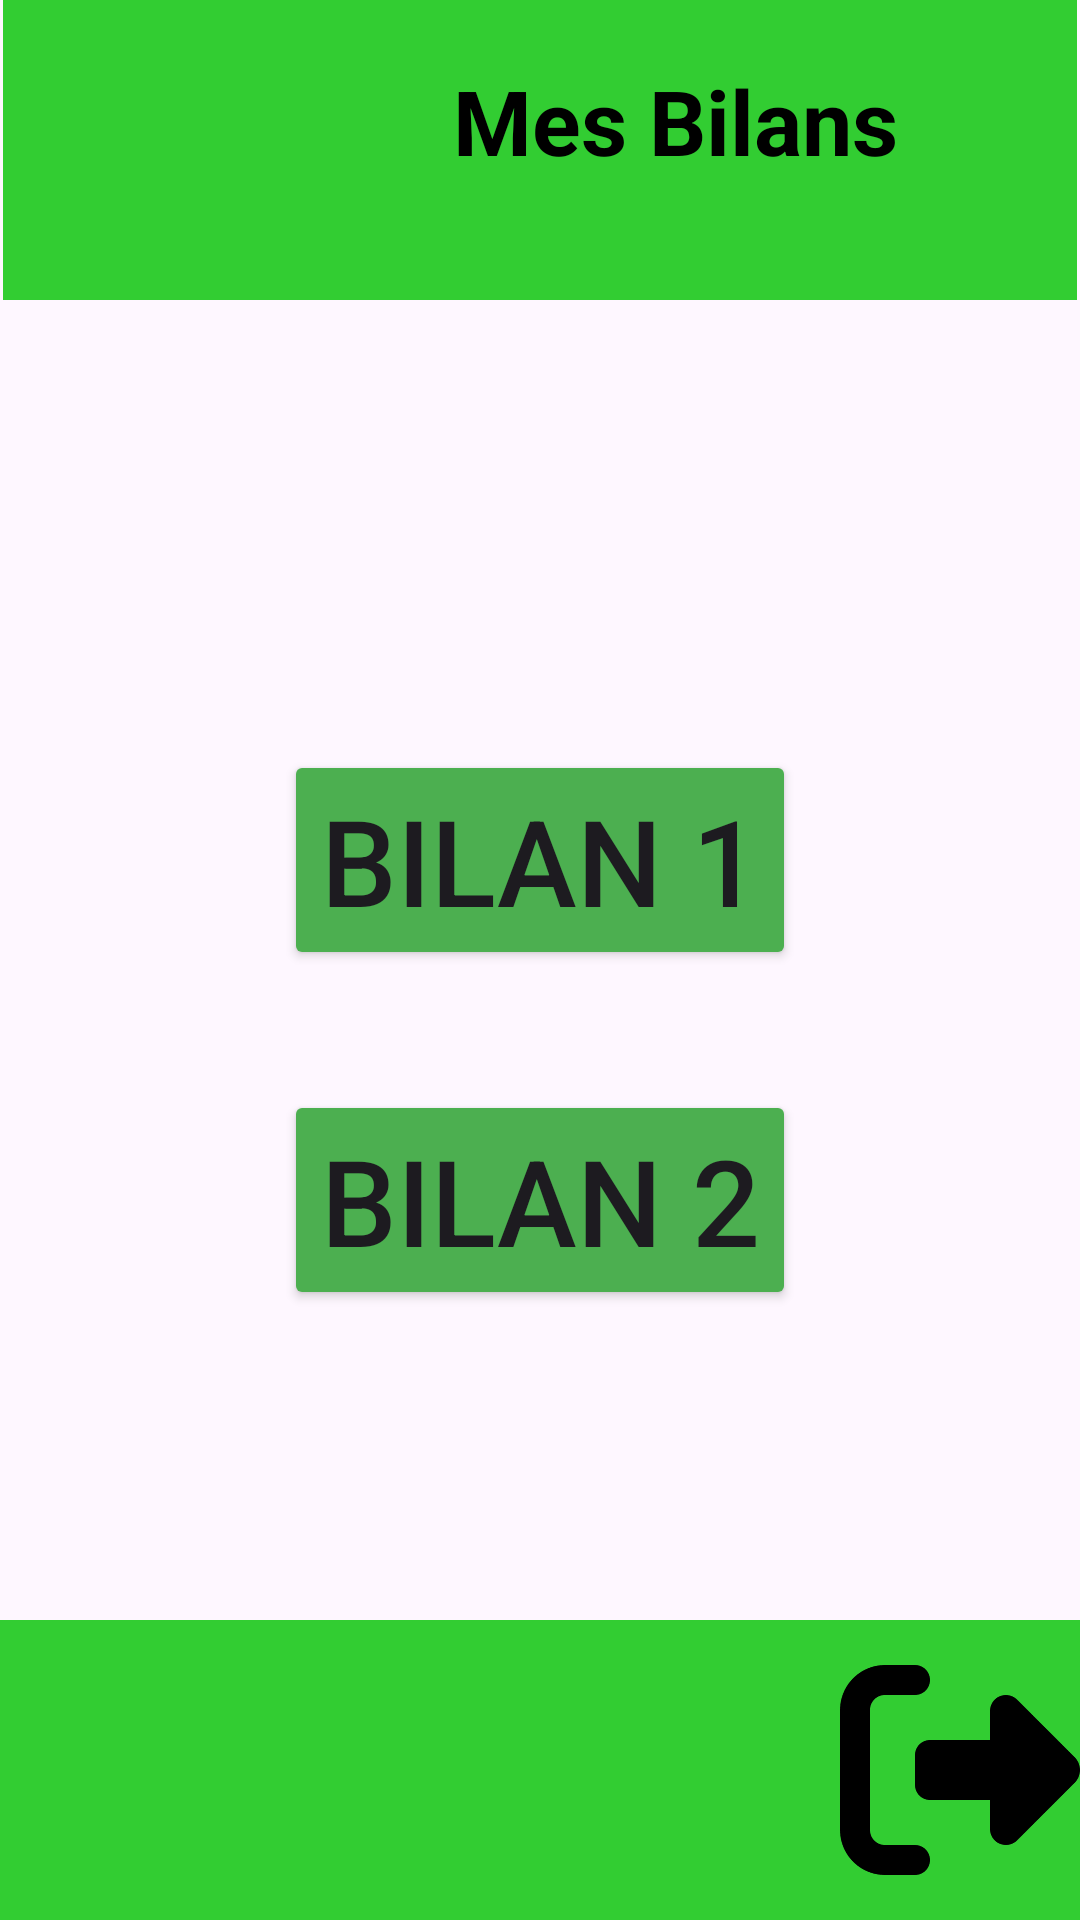

Named icons in this screenshot (1080x1920) and their centers, point (x, y):
escape: point (960, 1770)
